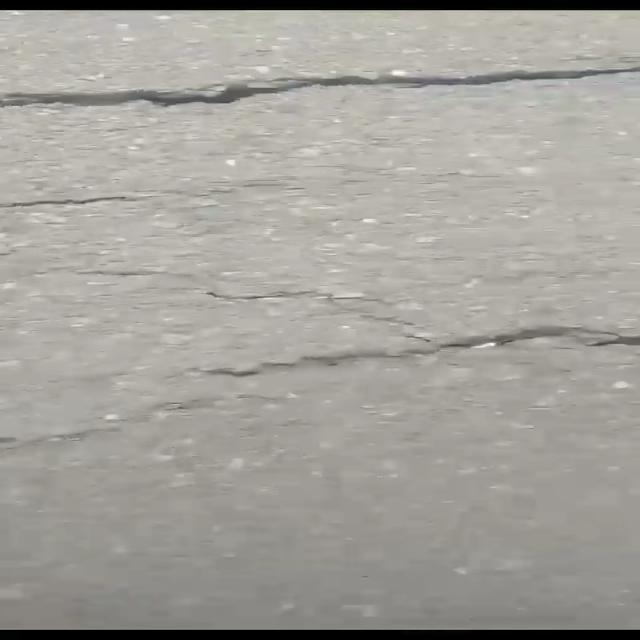Melintang: (0, 57, 640, 119), (195, 318, 640, 389)
